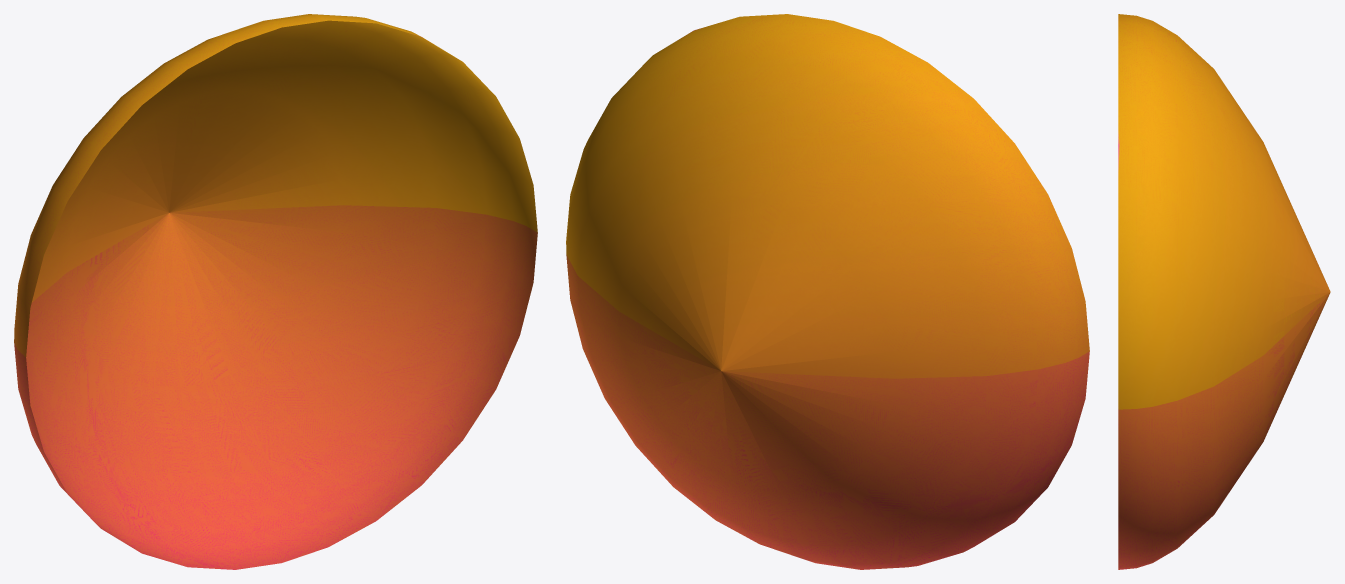
File: superficie.fbx
The picture shows the model from 3 angles, left to right: view 1: azimuth 30°, elevation 25°; view 2: azimuth 150°, elevation 25°; view 3: azimuth 270°, elevation 25°; orthographic projection. The views are drawn at different scales.
Parts seen in each view (by area): view 1: polySurface4; view 2: polySurface4; view 3: polySurface4.
Part boxes in pixels (x1=…): polySurface4: x1=14, y1=14, x2=537, y2=569; polySurface4: x1=566, y1=14, x2=1089, y2=569; polySurface4: x1=1118, y1=14, x2=1330, y2=569.
Bounding box in the file's own units: 39.61 × 39.61 × 15.11.
